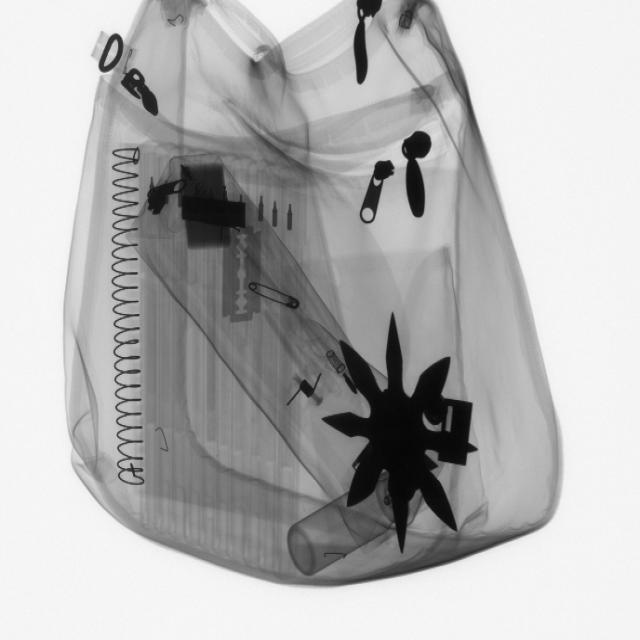BLADE: (210, 215, 269, 332)
SHURIKEN: (326, 314, 473, 552)
